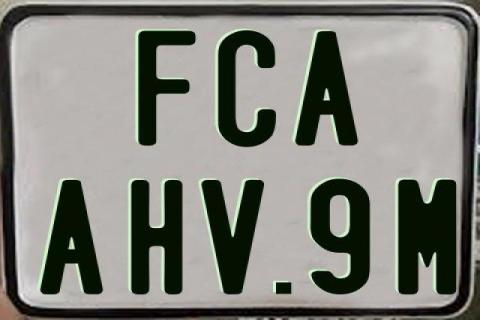0: (309, 178, 375, 298)
A: (40, 180, 110, 298), (293, 29, 361, 149)
C: (215, 30, 277, 152)
F: (136, 29, 196, 150)
H: (131, 180, 184, 294)
M: (396, 178, 455, 296)
V: (200, 179, 262, 293)
